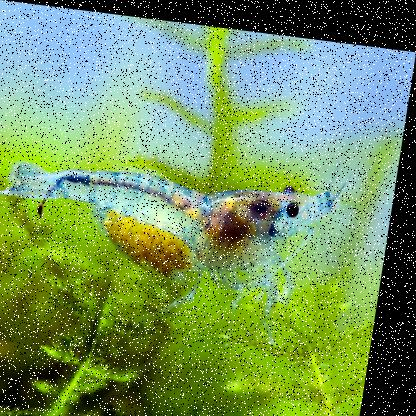shrimp: (0, 148, 350, 336)
